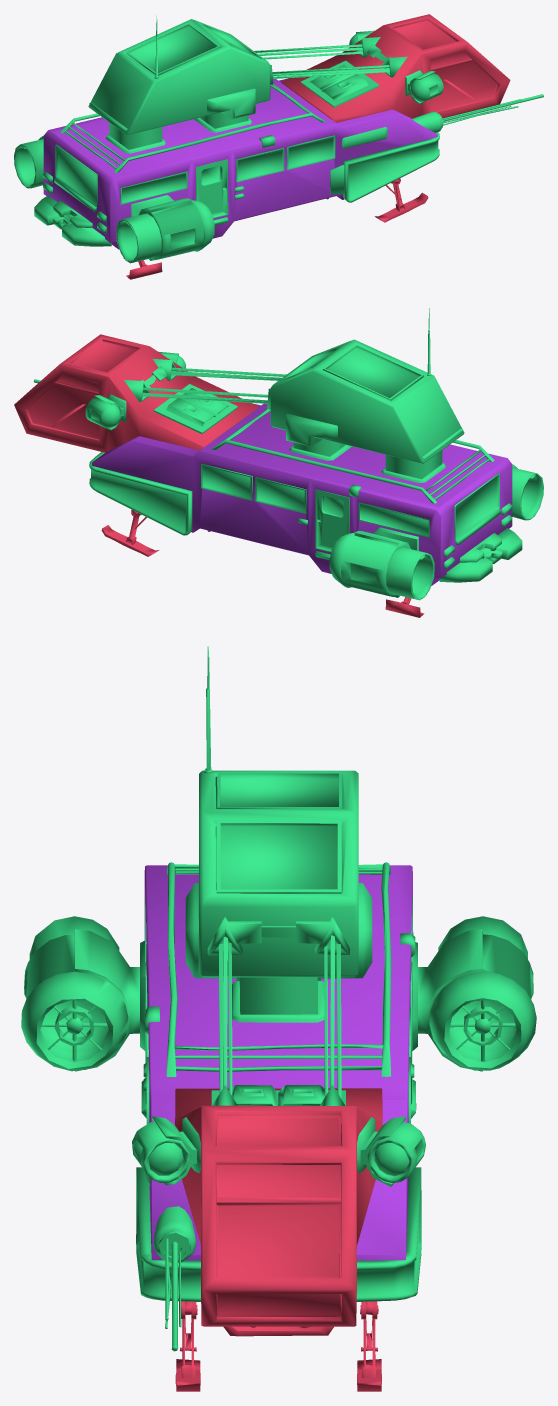
File: decimated.fbx
3 renders of one model, top to bottom at view 1: azimuth 30°, elevation 25°; view 2: azimuth 150°, elevation 25°; view 3: azimuth 270°, elevation 25°, orthographic. The views are drawn at different scales.
Visible parts, largest first — view 1: Base.002; view 2: Base.002; view 3: Base.002.
Part boxes in pixels (x1=…): Base.002: x1=14, y1=14, x2=543, y2=279; Base.002: x1=14, y1=308, x2=543, y2=617; Base.002: x1=21, y1=646, x2=536, y2=1391.
Bounding box in the file's own units: 1989 × 1049 × 960.
